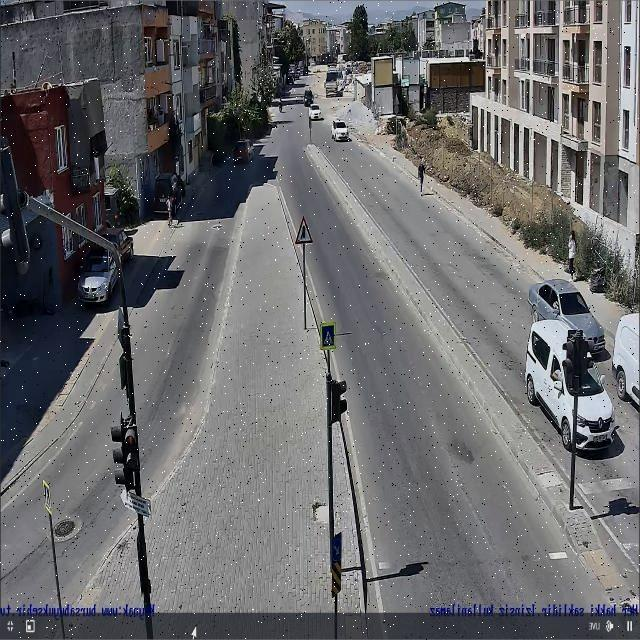Car: (524, 319, 618, 454), (528, 280, 604, 352), (73, 246, 122, 305), (152, 171, 187, 215), (100, 226, 136, 261), (232, 139, 254, 163), (331, 119, 349, 141), (308, 104, 323, 120), (303, 89, 315, 108)
Van: (610, 309, 640, 408)
